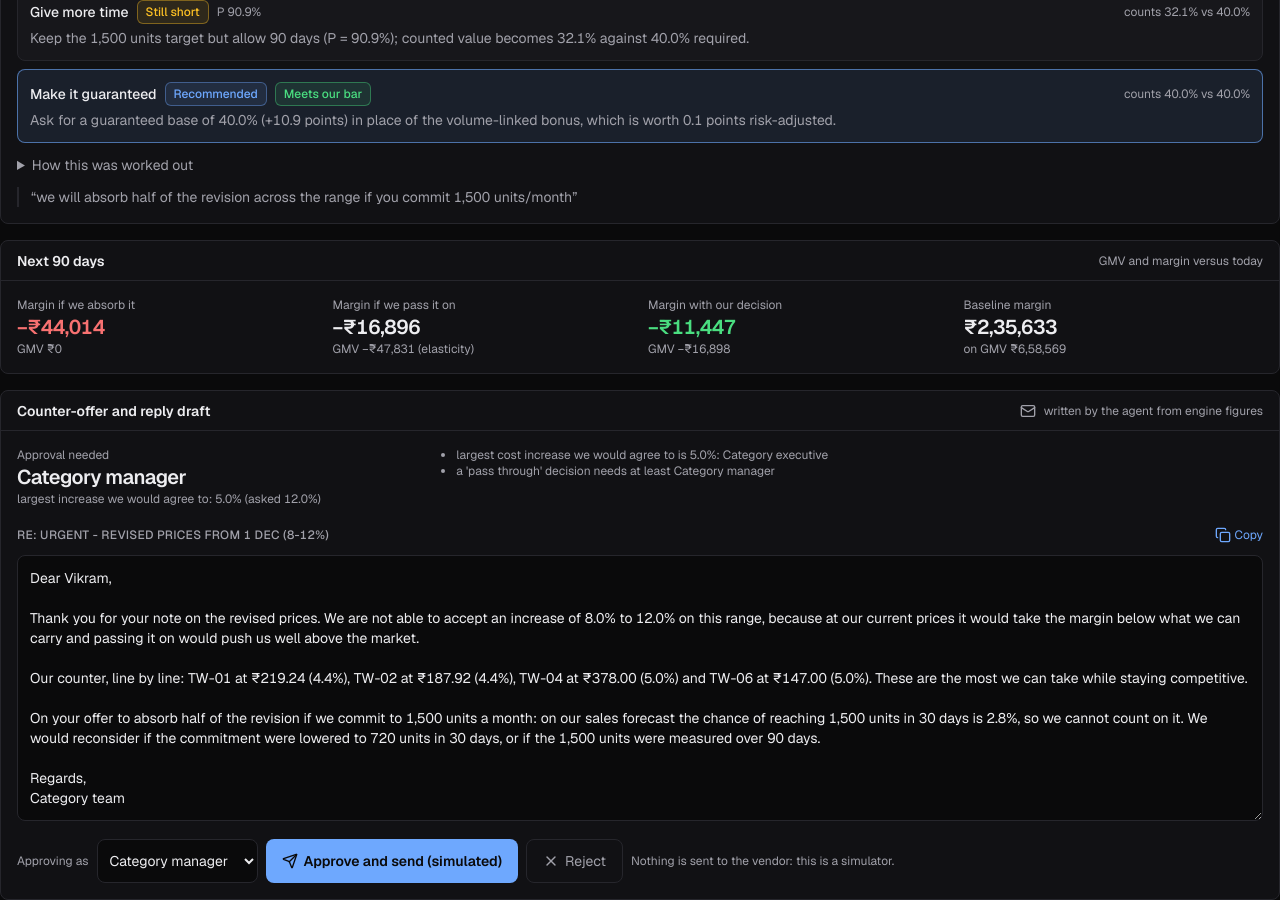
RequestDetail › shows the typed error when the approver is too junior
The width and height of the screenshot is (1280, 900).
(page scrolled)
Select "Category executive" in the dropdown labelled "Approving as" at (177, 861), box [96,839,258,883]
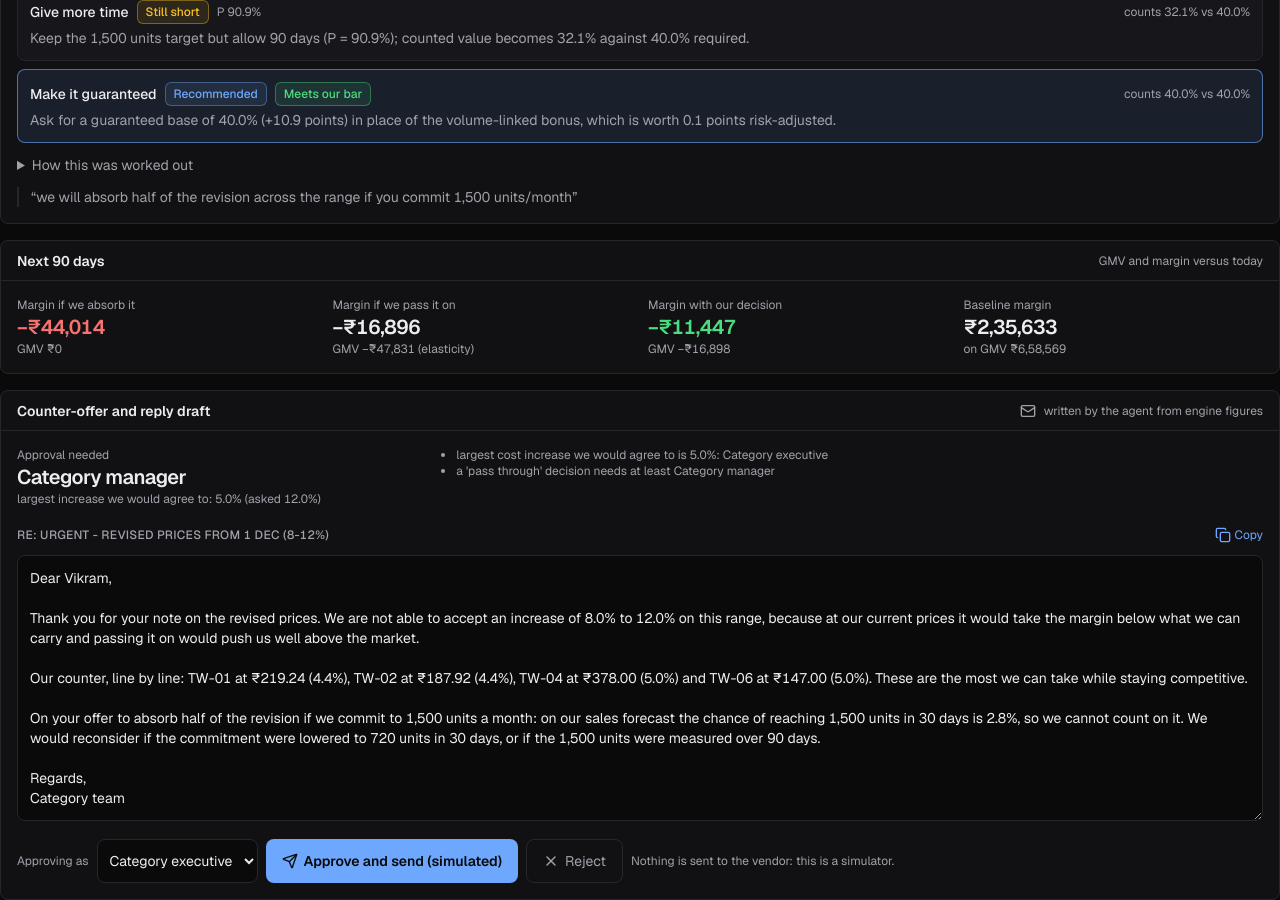
Click the button "Approve and send (simulated)" at (392, 861), box [266,839,518,883]
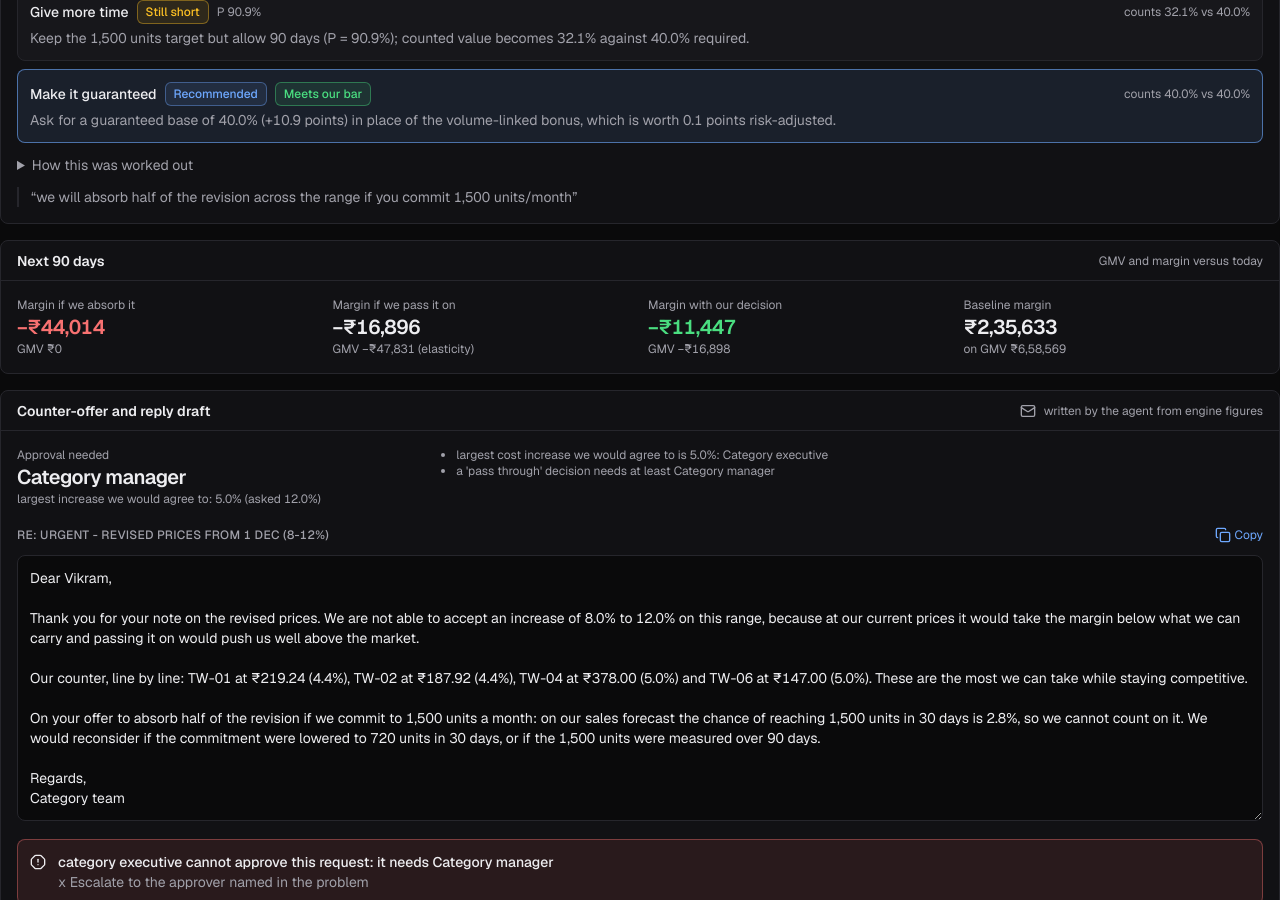
Expected: the text "needs Category manager" is shown, [58,853,554,871]
